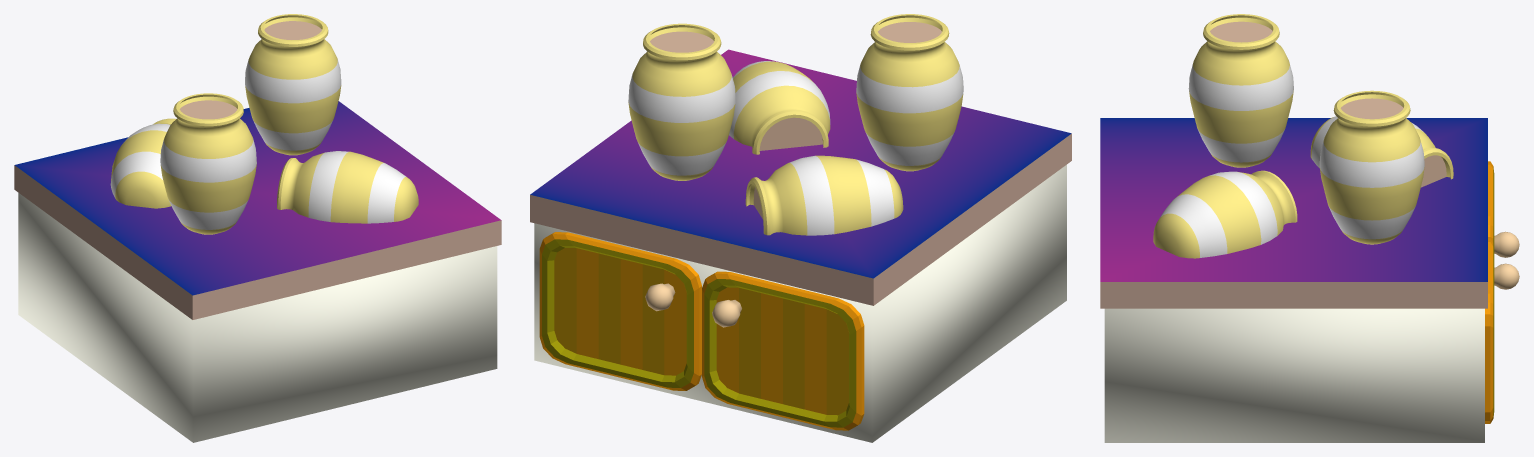
Rendered from Vase Provider.fbx.
The picture shows the model from 3 angles, left to right: view 1: azimuth 30°, elevation 25°; view 2: azimuth 150°, elevation 25°; view 3: azimuth 270°, elevation 25°; orthographic projection. The views are drawn at different scales.
Parts seen in each view (by area): view 1: Body, Top, Top Rim, Vase.003, Vase.004, Vase.005, Vase.002; view 2: Doors, Top, Body, Top Rim, Vase.004, Vase.003, Vase.002, Vase.005, Handles; view 3: Body, Top, Vase.004, Vase.003, Top Rim, Vase.005, Doors, Vase.002, Handles.
Boxes of the visible parts, x1,y1,x2,y2 form: Body: [18, 193, 497, 442]; Top: [15, 101, 501, 295]; Top Rim: [14, 165, 501, 319]; Vase.003: [160, 93, 256, 234]; Vase.004: [245, 14, 341, 155]; Vase.005: [277, 151, 418, 223]; Vase.002: [110, 118, 175, 208]; Doors: [539, 232, 864, 430]; Top: [530, 49, 1071, 278]; Body: [534, 164, 1066, 442]; Top Rim: [530, 133, 1071, 305]; Vase.004: [628, 23, 735, 180]; Vase.003: [856, 14, 963, 171]; Vase.002: [745, 155, 903, 235]; Vase.005: [729, 61, 830, 154]; Handles: [645, 283, 741, 327]; Body: [1104, 308, 1484, 442]; Top: [1100, 118, 1487, 281]; Vase.004: [1319, 90, 1424, 244]; Vase.003: [1188, 14, 1293, 167]; Top Rim: [1100, 282, 1487, 308]; Vase.005: [1153, 170, 1297, 258]; Doors: [1485, 161, 1494, 423]; Vase.002: [1310, 116, 1453, 187]; Handles: [1494, 231, 1519, 289].
Bounding box in the file's own units: 100 × 83.78 × 108.
